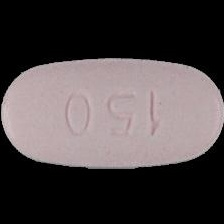60760-804: (0, 0, 224, 224)
